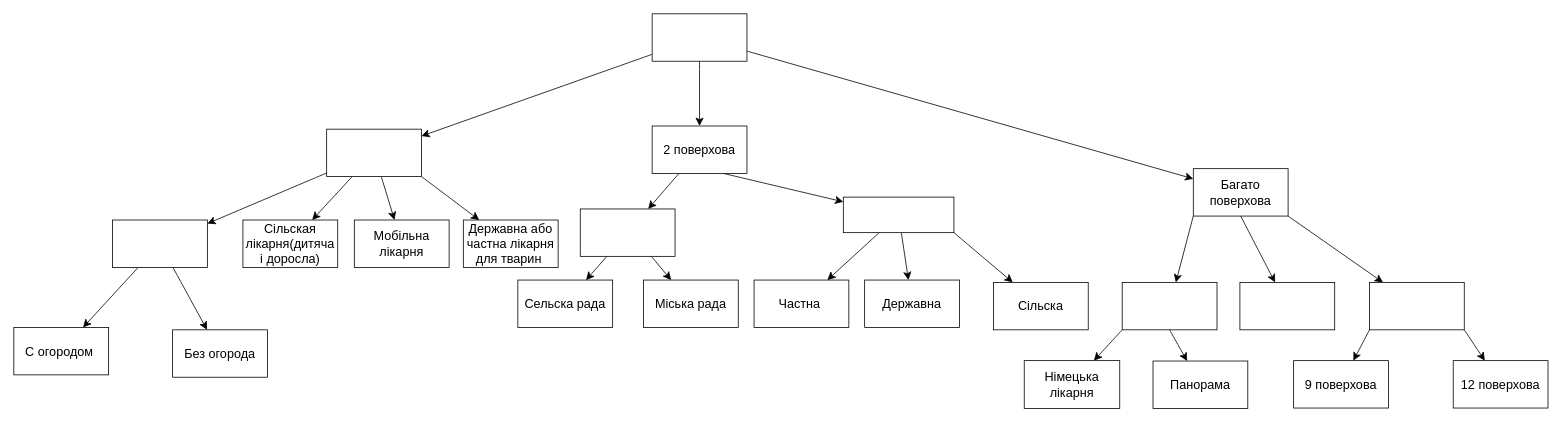
The diagram is 1562 pixels wide and 423 high, and some of its shapes have lost their labels. Here are the shapes that lost their labels. From the top down, the centre of each, then its label:
At point 699,37: "Будівля".
At point 373,152: "1 поверхова".
At point 627,232: "Верховна рада".
At point 898,214: "Лікарні".
At point 159,243: "Сільська хата".
At point 1169,306: "Нового покоління".
At point 1287,306: "Буш халіфа".
At point 1416,306: "Будівлі 90 годів".
